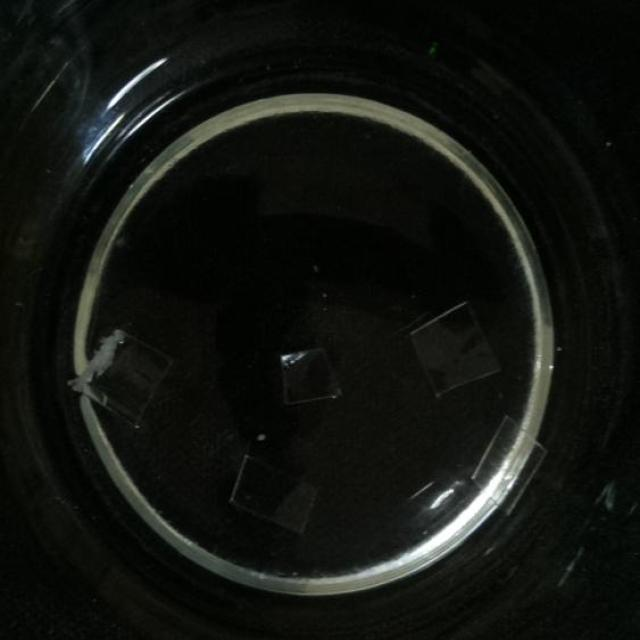fiber: (66, 325, 176, 428), (408, 302, 503, 399), (467, 415, 549, 516), (224, 453, 322, 536), (273, 348, 347, 408)
